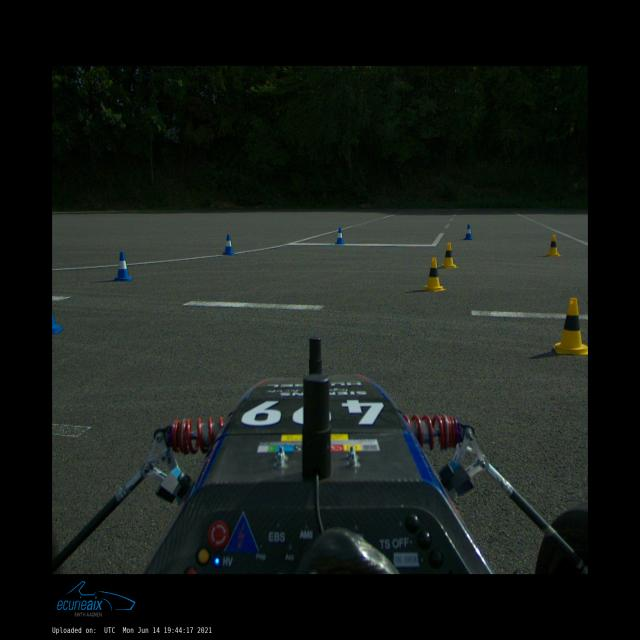blue_cone: (113, 252, 133, 281), (221, 234, 236, 255), (52, 310, 64, 334), (335, 228, 345, 244), (463, 224, 473, 240)
yellow_cone: (554, 298, 588, 354), (422, 257, 446, 292), (439, 243, 458, 268), (545, 235, 562, 256)
